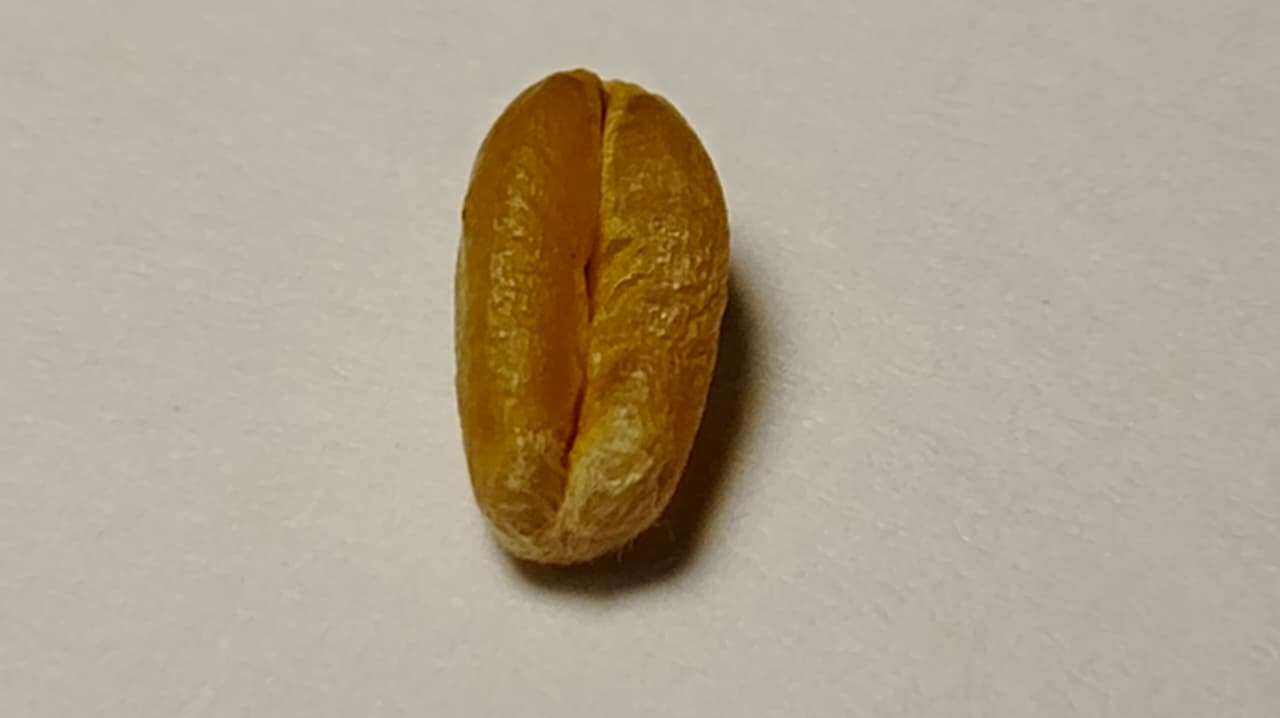healthy: (456, 71, 726, 561)
